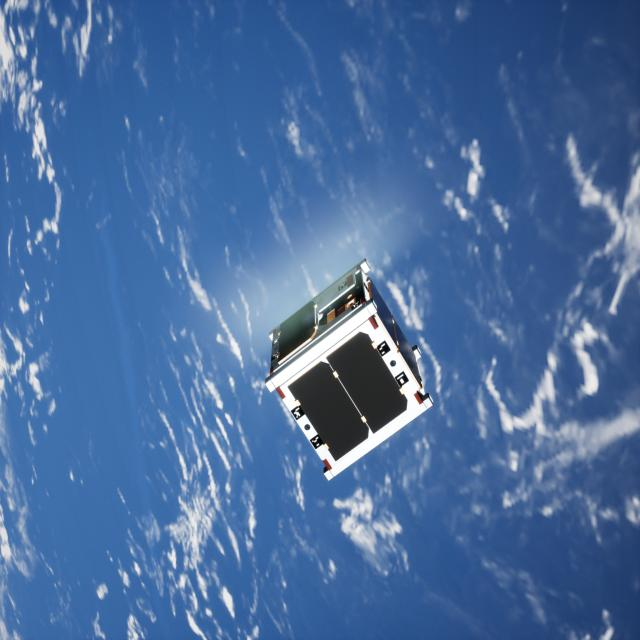satellite: (264, 256, 447, 486)
